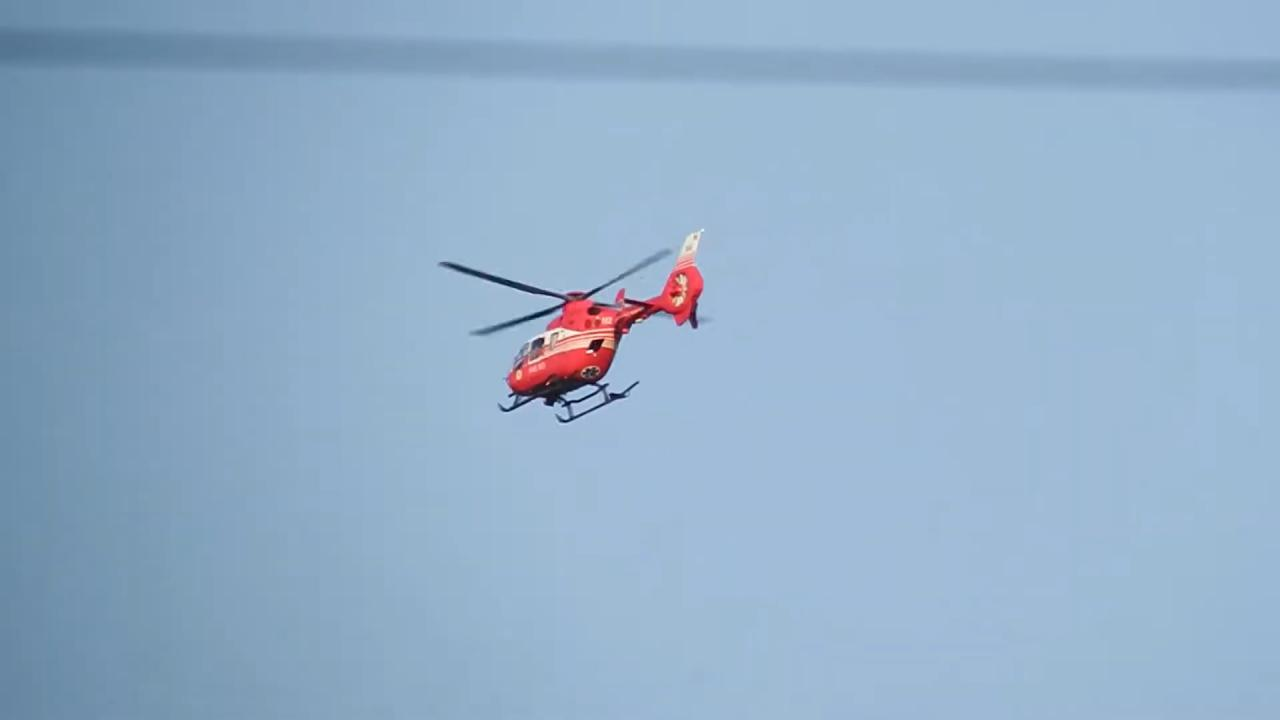Helicopter: (402, 214, 756, 447)
